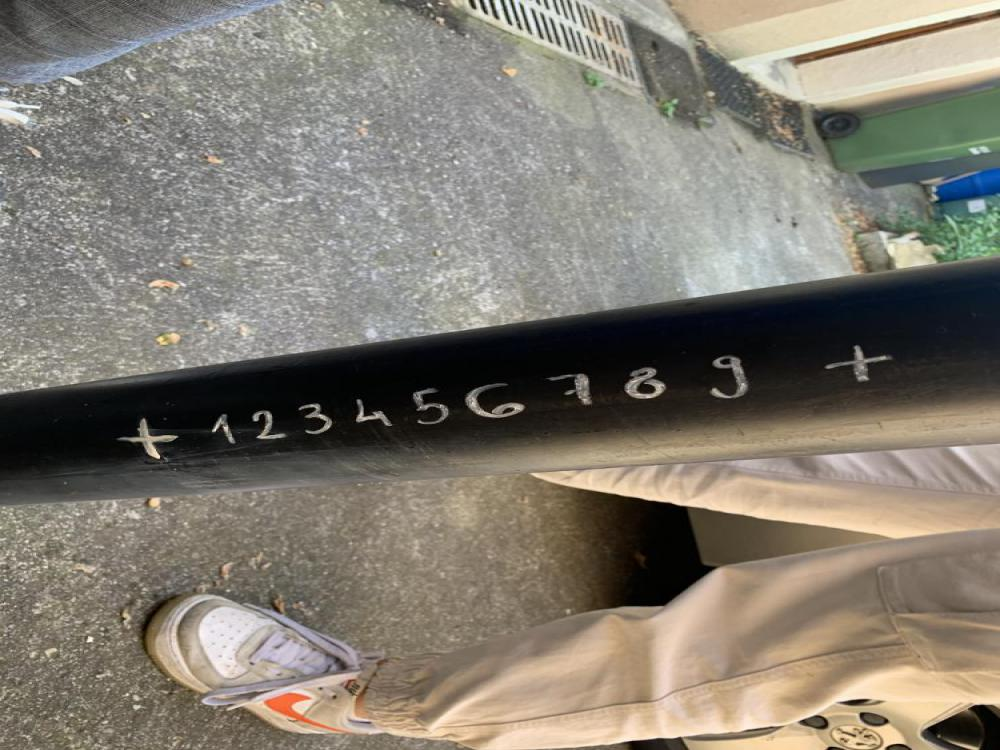+: (462, 80, 510, 132), (561, 618, 615, 658)
1: (551, 573, 592, 590)
2: (547, 536, 586, 560)
3: (540, 500, 580, 528)
4: (531, 454, 569, 483)
5: (517, 413, 566, 442)
6: (511, 357, 558, 402)
7: (497, 306, 542, 340)
8: (490, 250, 533, 284)
9: (472, 186, 535, 226)
